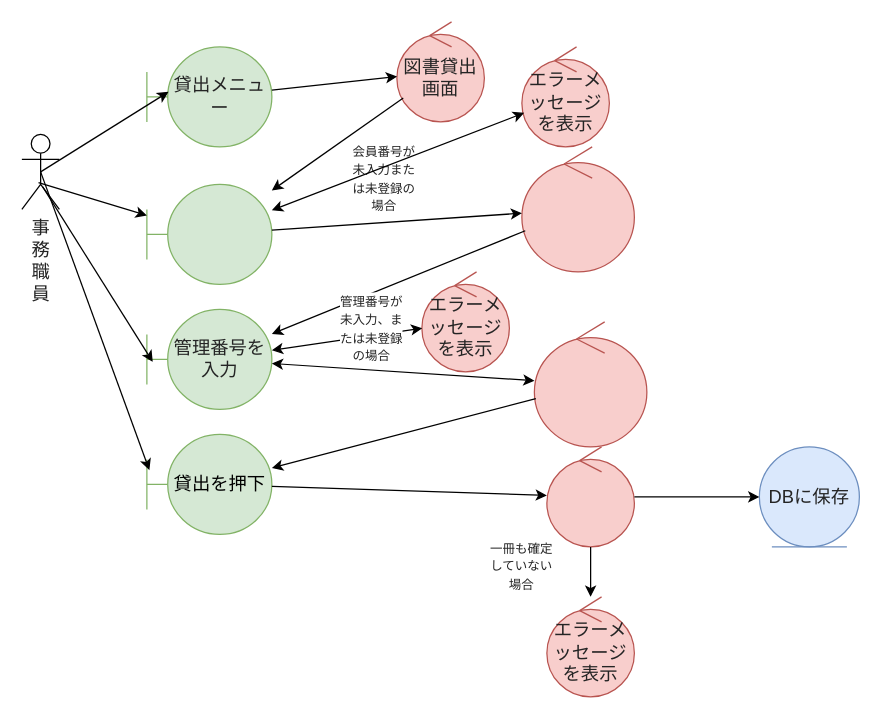
This 881x719 diagram has some shape labels left out. Here are the shapes that lost their labels. From the top down, the centre of each, then its label:
At pixel 577 209: "会員の氏名、会員種別を表示".
At pixel 209 233: "会員番号を入力".
At pixel 590 384: "貸出一覧に書名を表示".
At pixel 590 496: "貸出完了画面を表示".
